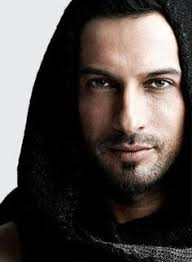middle_eastern_male: (76, 9, 185, 185)
